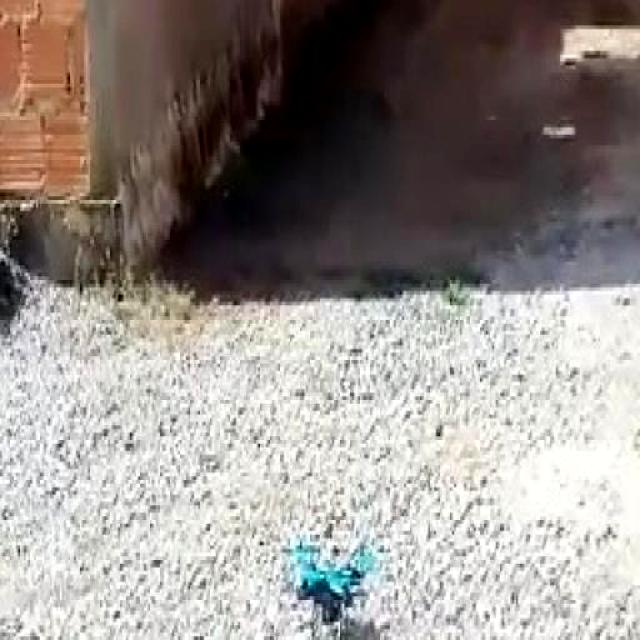bird: (275, 499, 388, 640)
